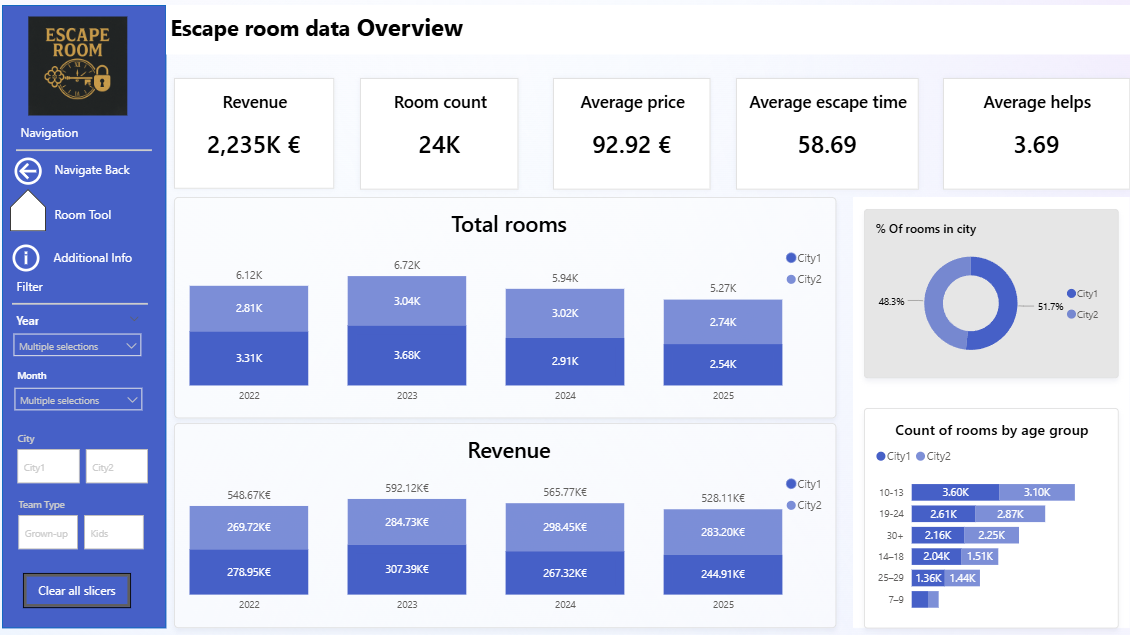

The dashboard page shown, as its layout file describes it:
{"tool":"powerbi","page":{"name":"Main Page","canvas":[1280,720],"ordinal":0},"visuals":[{"type":"shape","box":[5,8.8,182.5,692.5],"z":0},{"type":"card","title":"Revenue","fields":{"Values":["Sum(full_data.Revenue)"]},"box":[196.2,90,177.5,122.5],"z":1000},{"type":"textbox","box":[187.5,8.8,1092.5,55],"z":2000},{"type":"columnChart","title":"Total rooms","fields":{"Category":["full_data.Data.Variation.Date Hierarchy.Year","full_data.Data.Variation.Date Hierarchy.Quarter","full_data.Data.Variation.Date Hierarchy.Month","full_data.Data.Variation.Date Hierarchy.Day"],"Series":["full_data.City"],"Y":["full_data.Count_Kambarys"]},"box":[196.2,222.5,736.2,246.2],"z":3000},{"type":"shape","box":[951.2,222.5,307.5,478.8],"z":4000},{"type":"donutChart","title":"% Of rooms in city","fields":{"Y":["full_data.City count"],"Category":["full_data.City"]},"box":[963.8,235,282.5,187.5],"z":5000},{"type":"barChart","title":"Count of rooms by age group","fields":{"Category":["full_data.Age Group"],"Y":["full_data.Count_Kambarys"],"Series":["full_data.City"]},"box":[963.8,456.2,282.5,245],"z":6000},{"type":"shape","box":[21.3,156.8,151.1,27.1],"z":7000},{"type":"shape","box":[16.8,319.2,151.1,44],"z":8000},{"type":"textbox","box":[16.8,307.9,92.5,28.2],"z":9000},{"type":"textbox","box":[21.3,136.5,92.5,29.3],"z":10000},{"type":"slicer","fields":{"Values":["full_data.Data.Variation.Date Hierarchy.Year"]},"box":[13.4,349.6,152.2,56.4],"z":11000},{"type":"slicer","fields":{"Values":["full_data.Data.Variation.Date Hierarchy.Month"]},"box":[14.5,412.8,152.2,56.4],"z":12000},{"type":"advancedSlicerVisual","title":"City","fields":{"Values":["full_data.City"]},"box":[17.9,482.7,156.8,63.2],"z":13000},{"type":"advancedSlicerVisual","title":"Team Type","fields":{"Values":["full_data.TeamType"]},"box":[19,556,150,63.2],"z":14000},{"type":"card","title":"Room count","fields":{"Values":["full_data.Count_Kambarys"]},"box":[403.8,90,176.2,123.8],"z":15000},{"type":"card","title":"Average price","fields":{"Values":["full_data.Average Price"]},"box":[617.5,90,175,123.8],"z":16000},{"type":"card","title":"Average escape time","fields":{"Values":["Avg(full_data.Escape Time)"]},"box":[821.2,90,202.5,123.8],"z":17000},{"type":"card","title":"Average helps","fields":{"Values":["Avg(full_data.Helps)"]},"box":[1051.2,90,207.5,123.8],"z":18000},{"type":"actionButton","box":[13.9,172.8,46.6,40.3],"z":19000},{"type":"actionButton","box":[12.6,270,45.6,40],"z":20000},{"type":"textbox","box":[58.7,178.2,120.9,28.7],"z":21000},{"type":"textbox","box":[58.7,227.5,120.9,28.7],"z":22000},{"type":"textbox","box":[58.2,275.6,121.1,27.8],"z":23000},{"type":"actionButton","box":[29.1,640.3,120,38.5],"z":24000},{"type":"pageNavigator","box":[14.9,213.3,40,47.8],"z":26000},{"type":"image","box":[27.5,16.2,123.8,120],"z":27000},{"type":"columnChart","title":"Revenue","fields":{"Category":["full_data.Data.Variation.Date Hierarchy.Year","full_data.Data.Variation.Date Hierarchy.Quarter","full_data.Data.Variation.Date Hierarchy.Month","full_data.Data.Variation.Date Hierarchy.Day"],"Series":["full_data.City"],"Y":["Sum(full_data.Revenue)"]},"box":[196.2,473.8,736.2,227.5],"z":28000}]}

Visuals, with their boxes in screenshot pixels (x1, y1, x2, y2), scaled from the page's 1280x720 canvas onto the 1130x635 screenshot:
shape: BBox(4, 8, 166, 619)
"Revenue" card: BBox(173, 79, 330, 187)
textbox: BBox(166, 8, 1129, 56)
"Total rooms" columnChart: BBox(173, 196, 823, 413)
shape: BBox(840, 196, 1111, 619)
"% Of rooms in city" donutChart: BBox(851, 207, 1100, 373)
"Count of rooms by age group" barChart: BBox(851, 402, 1100, 618)
shape: BBox(19, 138, 152, 162)
shape: BBox(15, 282, 148, 320)
textbox: BBox(15, 272, 96, 296)
textbox: BBox(19, 120, 100, 146)
slicer - full_data.Data.Variation.Date Hierarchy.Year: BBox(12, 308, 146, 358)
slicer - full_data.Data.Variation.Date Hierarchy.Month: BBox(13, 364, 147, 414)
"City" advancedSlicerVisual: BBox(16, 426, 154, 481)
"Team Type" advancedSlicerVisual: BBox(17, 490, 149, 546)
"Room count" card: BBox(356, 79, 512, 189)
"Average price" card: BBox(545, 79, 700, 189)
"Average escape time" card: BBox(725, 79, 904, 189)
"Average helps" card: BBox(928, 79, 1111, 189)
actionButton: BBox(12, 152, 53, 188)
actionButton: BBox(11, 238, 51, 273)
textbox: BBox(52, 157, 159, 182)
textbox: BBox(52, 201, 159, 226)
textbox: BBox(51, 243, 158, 268)
actionButton: BBox(26, 565, 132, 599)
pageNavigator: BBox(13, 188, 48, 230)
image: BBox(24, 14, 134, 120)
"Revenue" columnChart: BBox(173, 418, 823, 619)
